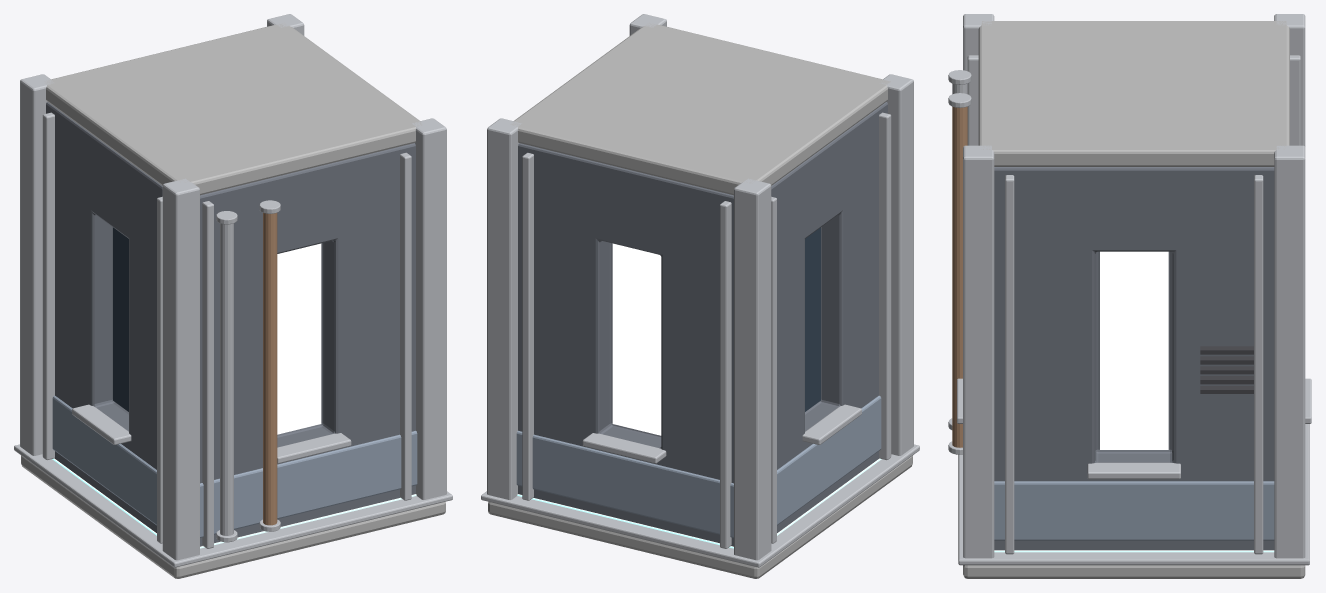
Rendered from office_2x2.glb.
3 views of the same model, side by side, from view 1: azimuth 30°, elevation 25°; view 2: azimuth 150°, elevation 25°; view 3: azimuth 270°, elevation 25° (orthographic). The views are drawn at different scales.
Parts seen in each view (by area): view 1: ext_wall, int_ceiling, int_columns, ext_frames, ext_spandrel, ext_panes_lit, int_slab_edge, int_slab, ext_pipe1, ext_pipe0, ext_panes_dark, int_grid; view 2: ext_wall, int_ceiling, int_columns, ext_frames, ext_spandrel, ext_panes_lit, int_slab_edge, int_slab, ext_panes_dark, int_grid; view 3: ext_wall, int_ceiling, int_columns, ext_spandrel, ext_panes_lit, ext_frames, int_slab_edge, int_slab, ext_pipe1, ext_vent, int_grid.
Part boxes in pixels (left/top/right/bottom): ext_wall: left=46, top=102, right=415, bottom=546; int_ceiling: left=44, top=23, right=421, bottom=195; int_columns: left=20, top=14, right=446, bottom=560; ext_frames: left=42, top=112, right=411, bottom=548; ext_spandrel: left=52, top=395, right=417, bottom=537; ext_panes_lit: left=277, top=243, right=321, bottom=434; int_slab_edge: left=14, top=444, right=452, bottom=567; int_slab: left=21, top=455, right=445, bottom=578; ext_pipe1: left=263, top=213, right=277, bottom=525; ext_pipe0: left=220, top=223, right=233, bottom=535; ext_panes_dark: left=113, top=227, right=128, bottom=411; int_grid: left=52, top=458, right=416, bottom=548; ext_wall: left=518, top=102, right=887, bottom=546; int_ceiling: left=510, top=23, right=890, bottom=195; int_columns: left=487, top=14, right=913, bottom=560; ext_frames: left=522, top=112, right=891, bottom=548; ext_spandrel: left=516, top=395, right=881, bottom=537; ext_panes_lit: left=612, top=243, right=661, bottom=435; int_slab_edge: left=481, top=444, right=919, bottom=567; int_slab: left=488, top=455, right=912, bottom=578; ext_panes_dark: left=805, top=227, right=820, bottom=411; int_grid: left=517, top=458, right=881, bottom=548; ext_wall: left=994, top=167, right=1274, bottom=550; int_ceiling: left=978, top=21, right=1289, bottom=166; int_columns: left=963, top=14, right=1305, bottom=558; ext_spandrel: left=994, top=481, right=1274, bottom=540; ext_panes_lit: left=1100, top=251, right=1168, bottom=449; ext_frames: left=957, top=55, right=1311, bottom=554; int_slab_edge: left=958, top=424, right=1309, bottom=565; int_slab: left=963, top=565, right=1305, bottom=578; ext_pipe1: left=952, top=106, right=967, bottom=447; ext_vent: left=1200, top=346, right=1253, bottom=393; int_grid: left=994, top=550, right=1274, bottom=552.
Size of the model in its own units: 2.28 by 3 by 2.33.
